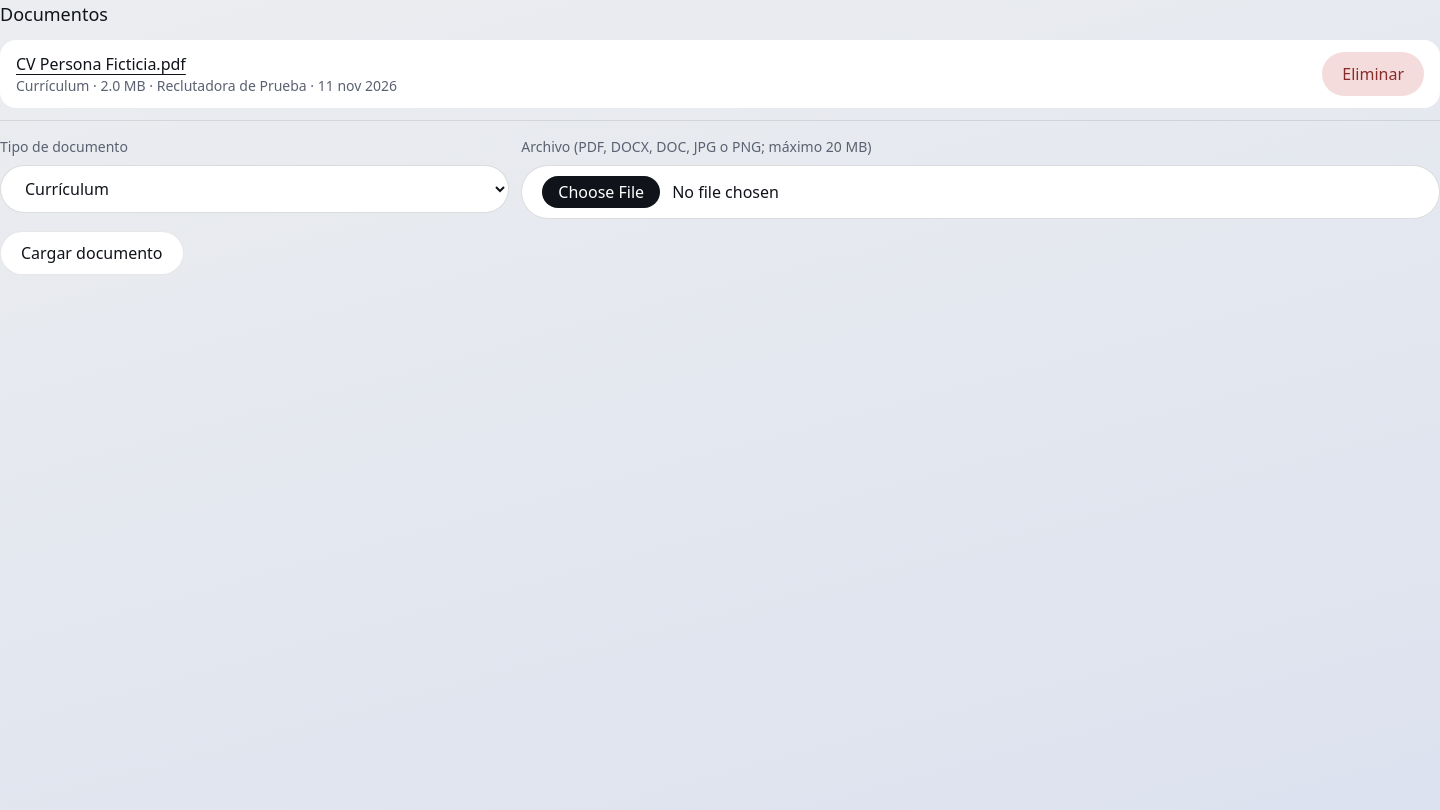
it: VacancyDocuments › una administradora elimina un documento indicando el motivo
Click the button with aria-label "Eliminar CV Persona Ficticia.pdf". click: (1373, 74)
box: [1322,52,1424,96]
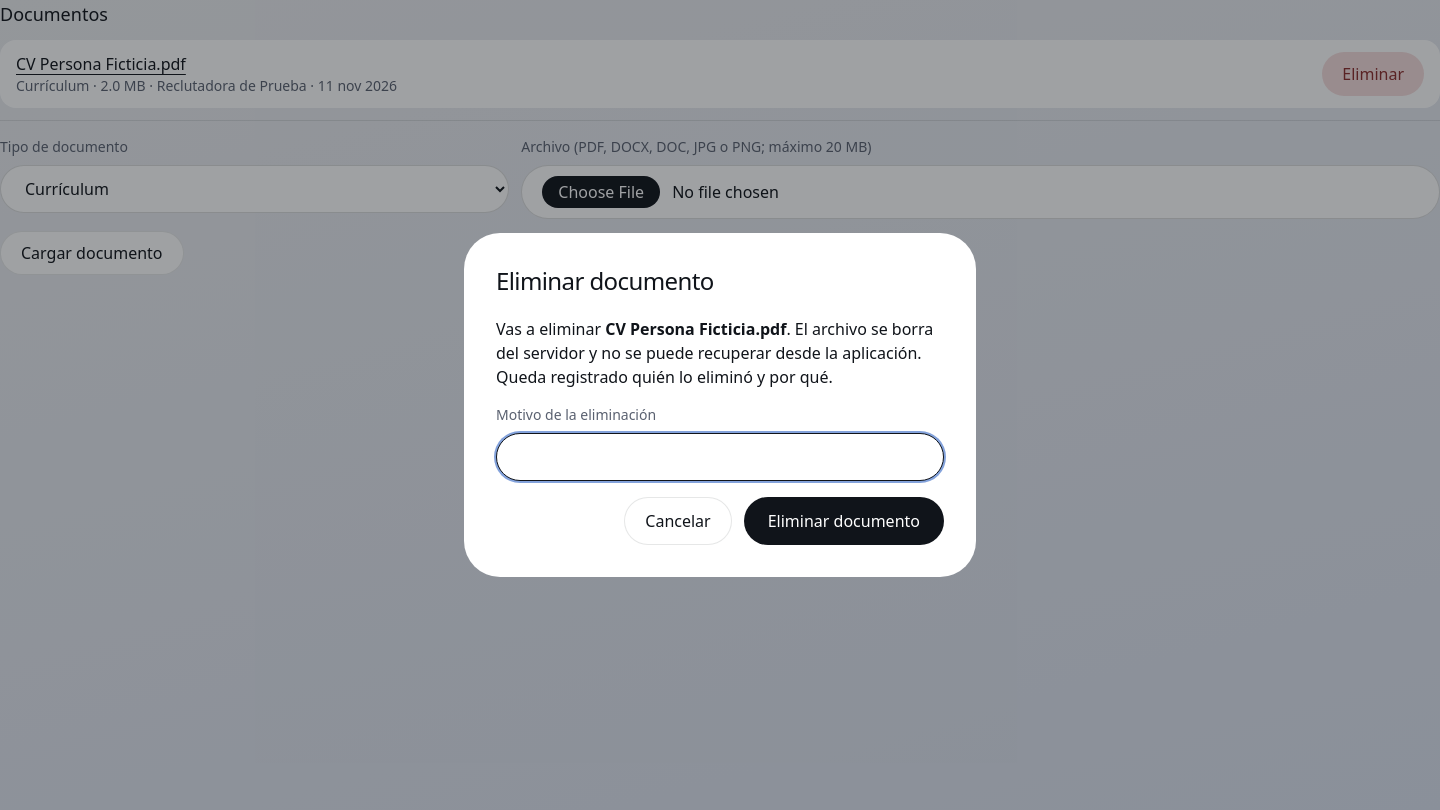
Click the button "Eliminar documento". click: (844, 521)
box: [744,497,944,545]
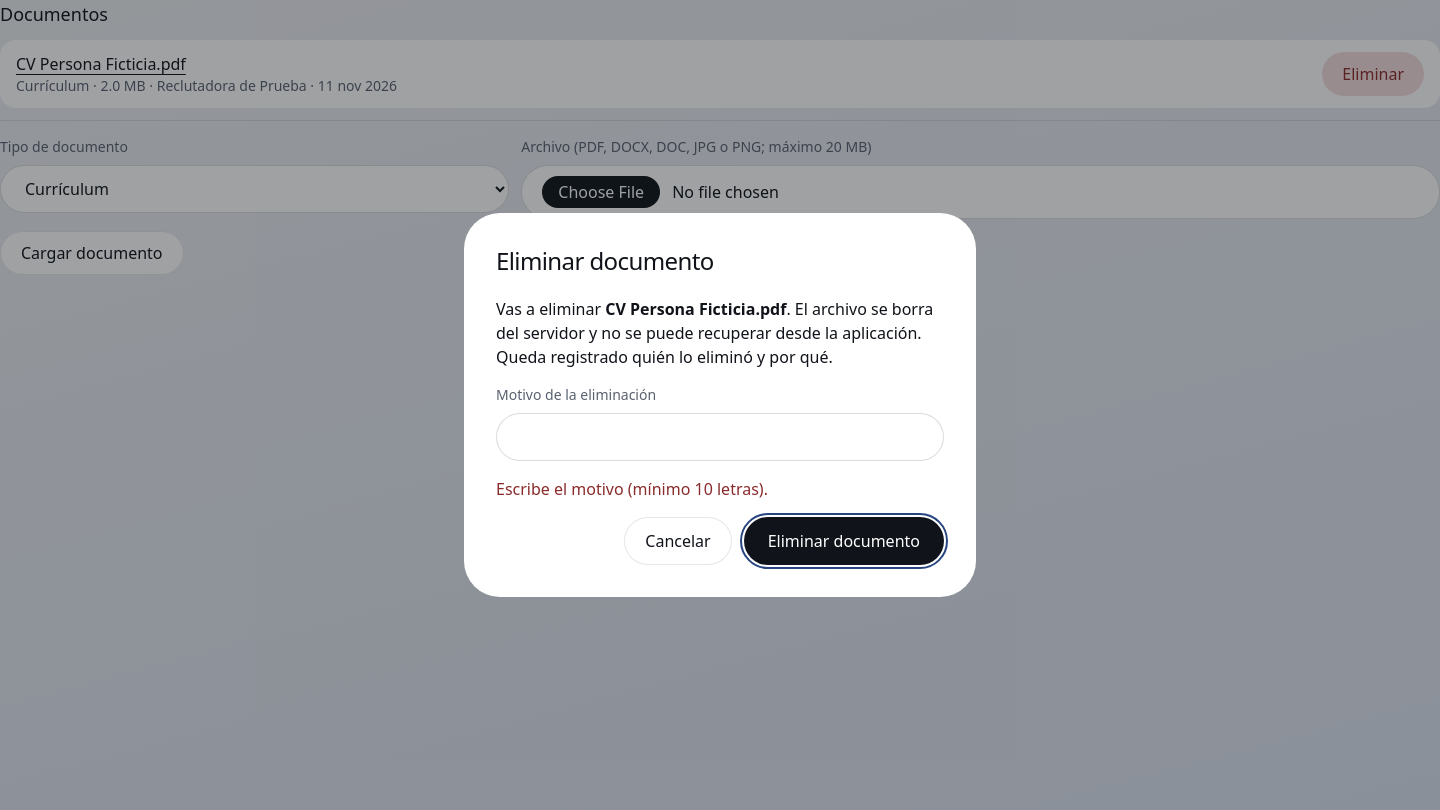
Check: the message shows "motivo", box [496,478,768,500]
Type "Solicitud del titular" into the field labelled "Motivo de la eliminación". click: (720, 437)
box: [496,413,944,461]
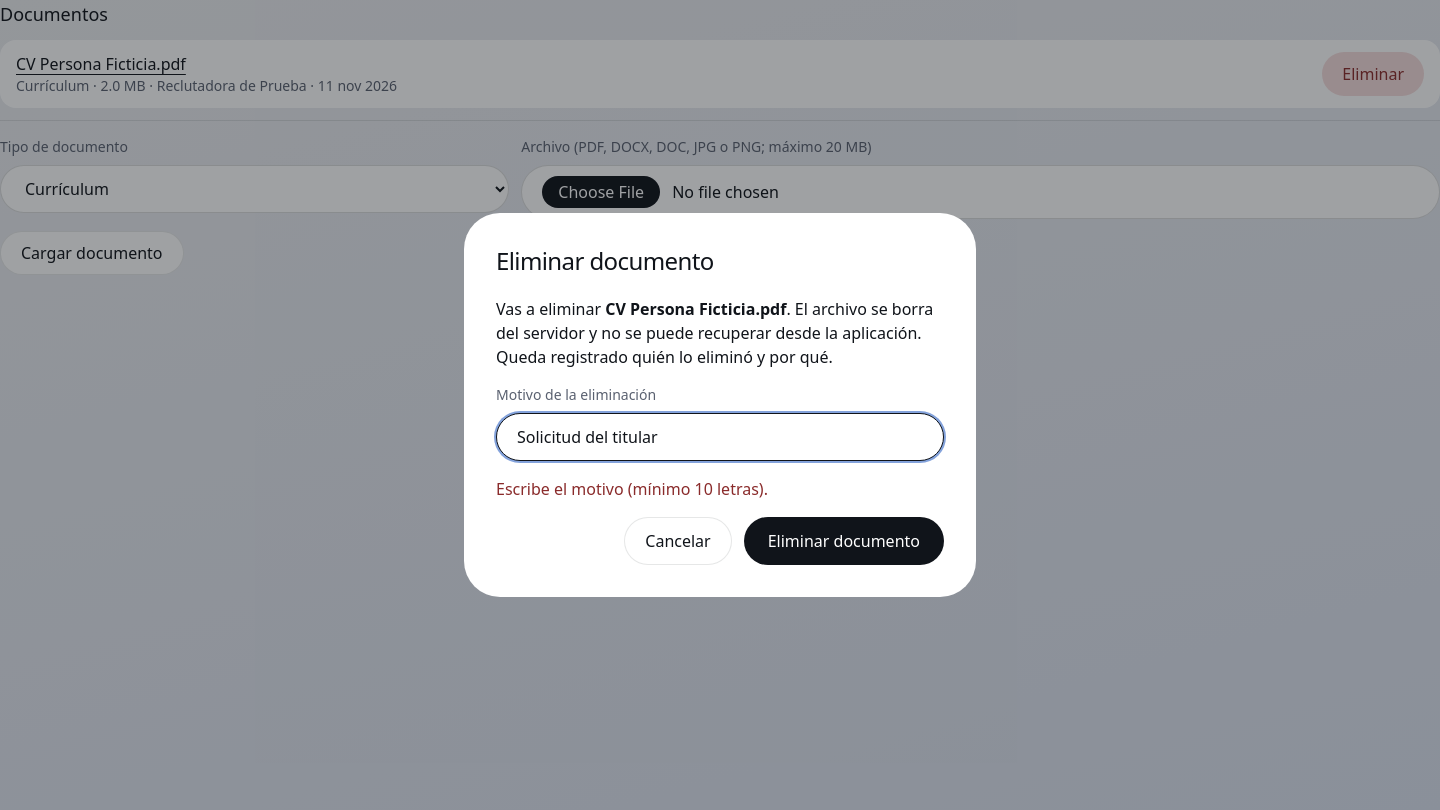
Click the button "Eliminar documento". click: (844, 541)
box: [744,517,944,565]
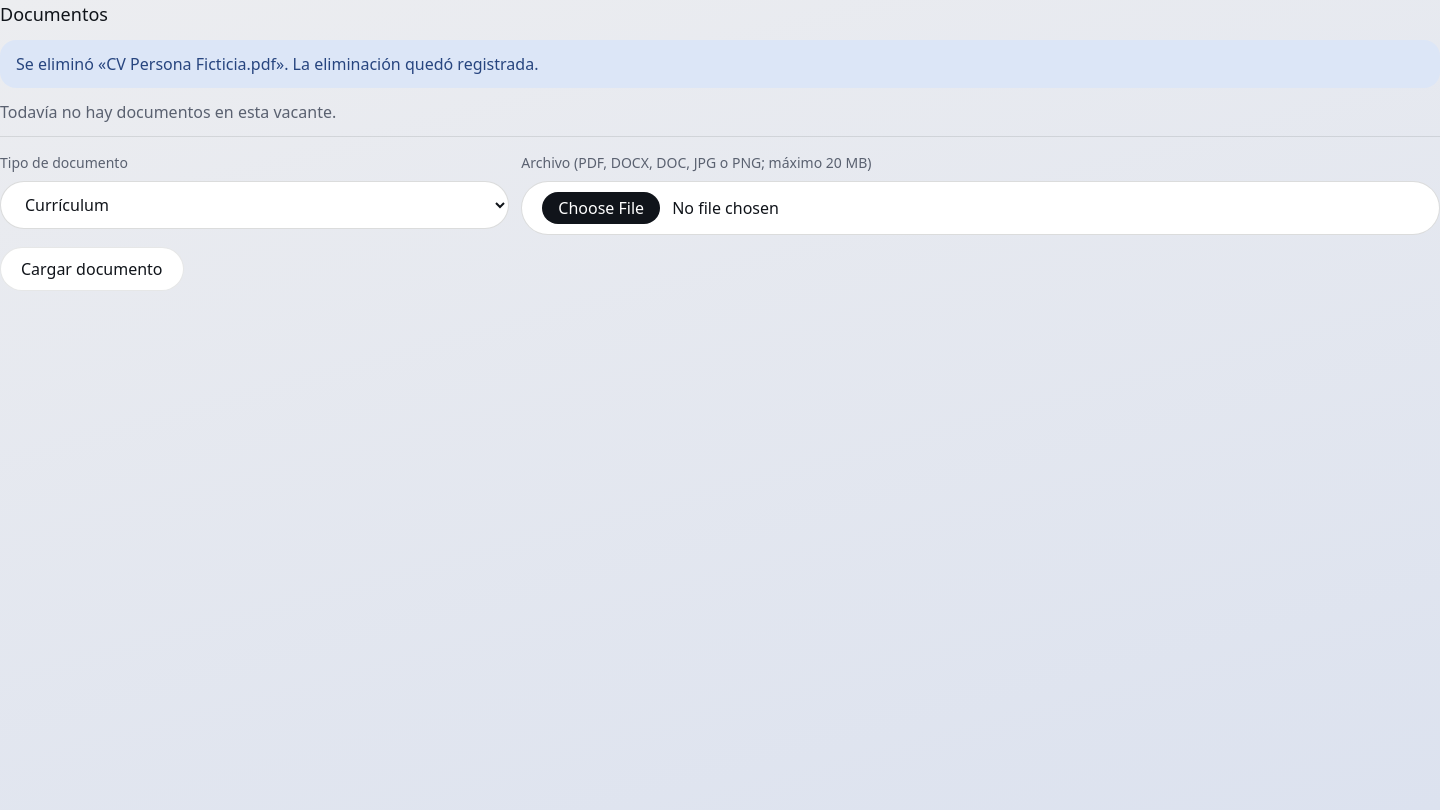
Check: the text "Todavía no hay documentos en esta vacante." is shown, box [0,101,336,123]
Check: the message shows "La eliminación quedó registrada", box [16,53,538,75]
